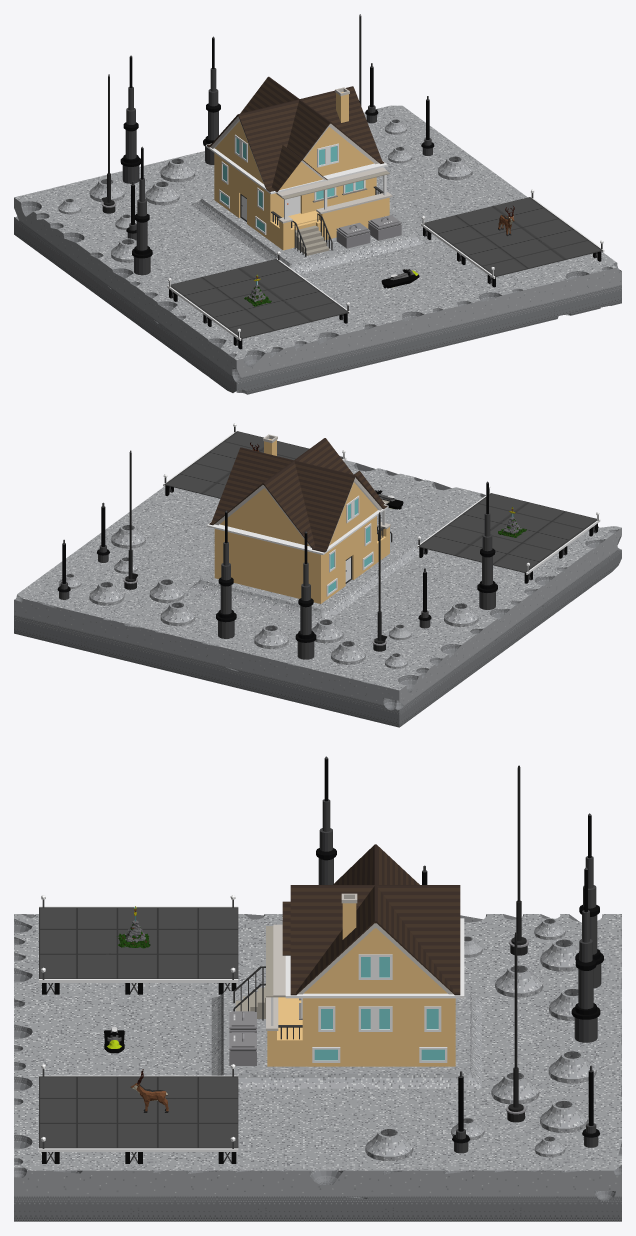
3 renders of one model, top to bottom at view 1: azimuth 30°, elevation 25°; view 2: azimuth 150°, elevation 25°; view 3: azimuth 270°, elevation 25°, orthographic. The views are drawn at different scales.
Parts seen in each view (by area): view 1: Cube.027, Cube.235, Cube.026, Cube.025, Cube.028, Cylinder.020, Cylinder.021, Cylinder.017, Cube.029, Cube.030, Cylinder.027, Cylinder.033 (+2 smaller); view 2: Cube.027, Cube.235, Cube.025, Cube.028, Cube.026, Cylinder.020, Cylinder.021, Cylinder.017, Cylinder.031, Cylinder.028, Cylinder.029, Cylinder.030 (+6 smaller); view 3: Cube.027, Cube.235, Cube.026, Cube.025, Cube.028, Cylinder.017, Cylinder.020, Cylinder.021, Cylinder.033, Cylinder.031, Cylinder.029, Cylinder.026 (+8 smaller).
Boxes of the visible parts, x1=… form: Cube.027: x1=14, y1=105, x2=621, y2=394; Cube.235: x1=205, y1=76, x2=392, y2=256; Cube.026: x1=421, y1=189, x2=604, y2=287; Cube.025: x1=167, y1=251, x2=350, y2=349; Cube.028: x1=191, y1=195, x2=424, y2=274; Cylinder.020: x1=120, y1=55, x2=140, y2=183; Cylinder.021: x1=132, y1=146, x2=152, y2=275; Cylinder.017: x1=203, y1=36, x2=220, y2=164; Cube.029: x1=336, y1=222, x2=370, y2=248; Cube.030: x1=368, y1=215, x2=401, y2=240; Cylinder.027: x1=160, y1=158, x2=195, y2=182; Cylinder.033: x1=438, y1=156, x2=472, y2=180; Cube.027: x1=14, y1=460, x2=621, y2=727; Cube.235: x1=206, y1=434, x2=392, y2=603; Cube.025: x1=417, y1=485, x2=600, y2=583; Cube.028: x1=190, y1=538, x2=419, y2=620; Cube.026: x1=163, y1=423, x2=346, y2=498; Cylinder.020: x1=295, y1=531, x2=316, y2=659; Cylinder.021: x1=477, y1=481, x2=497, y2=609; Cylinder.017: x1=216, y1=510, x2=236, y2=638; Cylinder.031: x1=89, y1=581, x2=124, y2=605; Cylinder.028: x1=331, y1=640, x2=365, y2=664; Cylinder.029: x1=160, y1=601, x2=195, y2=626; Cylinder.030: x1=149, y1=578, x2=184, y2=603; Cube.027: x1=14, y1=914, x2=621, y2=1221; Cube.235: x1=233, y1=844, x2=464, y2=1066; Cube.026: x1=39, y1=1064, x2=238, y2=1163; Cube.025: x1=39, y1=895, x2=238, y2=994; Cube.028: x1=211, y1=991, x2=481, y2=1088; Cylinder.017: x1=571, y1=867, x2=600, y2=1042; Cylinder.020: x1=575, y1=813, x2=603, y2=988; Cylinder.021: x1=316, y1=756, x2=336, y2=884; Cylinder.033: x1=365, y1=1128, x2=413, y2=1160; Cylinder.031: x1=540, y1=1100, x2=587, y2=1132; Cylinder.029: x1=548, y1=1050, x2=596, y2=1083; Cylinder.026: x1=495, y1=964, x2=543, y2=997.
Bounding box in the file's own units: 4000 × 1822 × 4000.
Materials: 37 (5 with a texture image).
